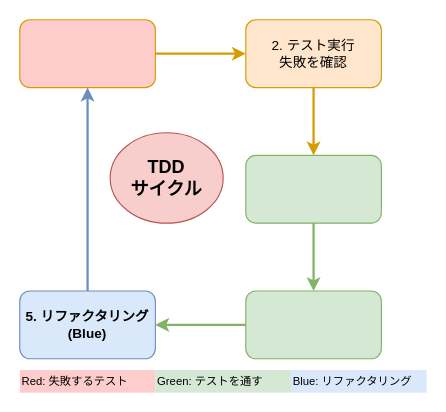
The diagram is 446 pixels wide and 412 high, and some of its shapes have lost their labels. Each missing label, with the centre of its shape:
1. テストを書く (Red): [87,53]
3. 最小限のコード を書く (Green): [313,188]
4. 全テスト実行 成功を確認: [313,324]
